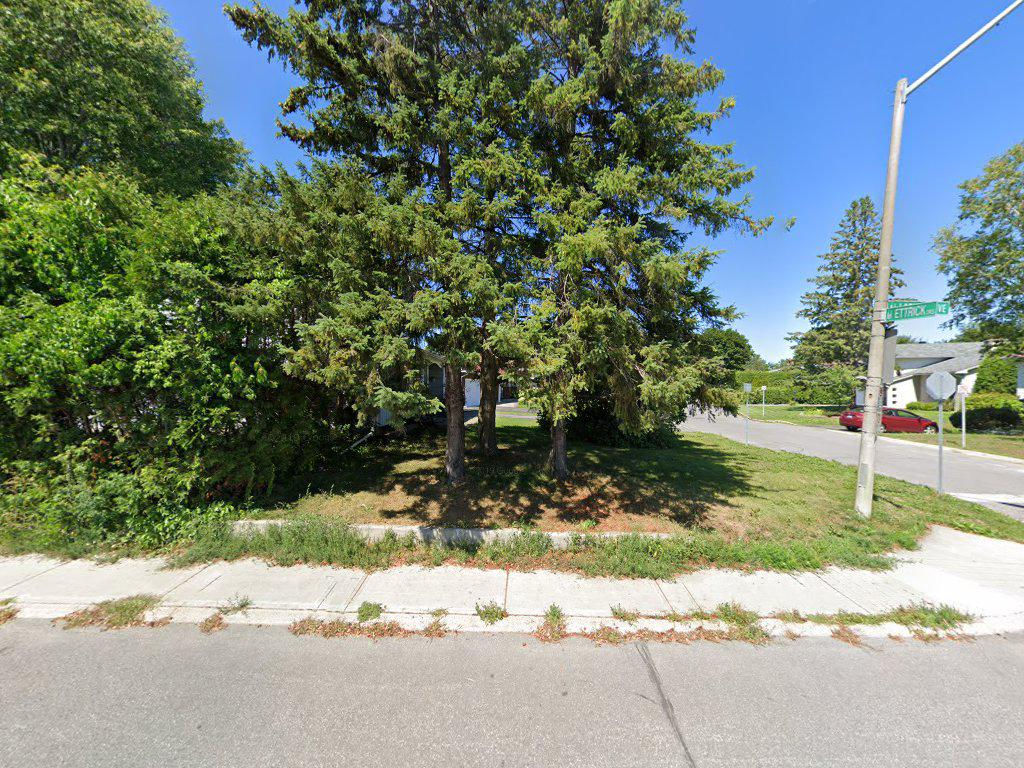trunk: (443, 357, 469, 486), (543, 414, 579, 481)
